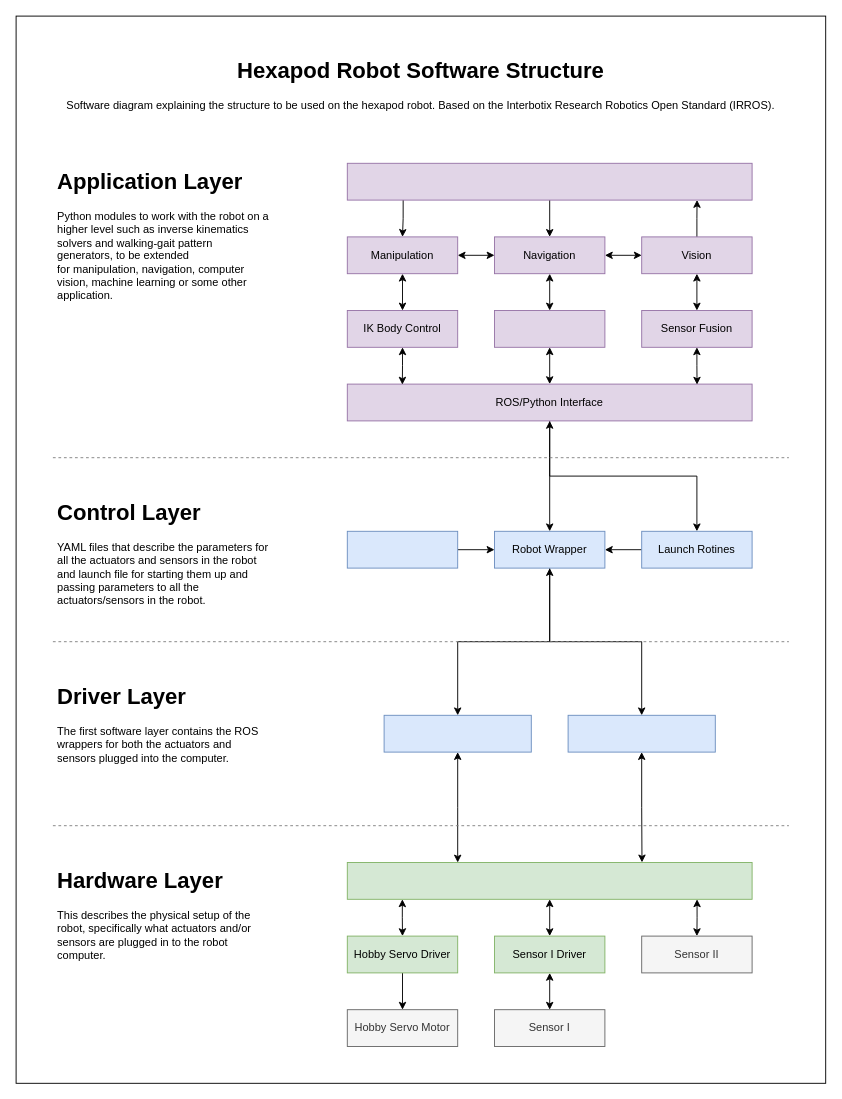
This 842x1099 diagram has some shape labels left out. The centre of each missing label's shape, as x and y in pixels:
Configuration files: the point at 402,549
IK Robot Gaits: the point at 549,328
Robot Computer: the point at 549,880
Robot Task Manager: the point at 549,181
Sensors ROS Wrapper: the point at 641,733
Servos ROS Wrapper: the point at 457,733
